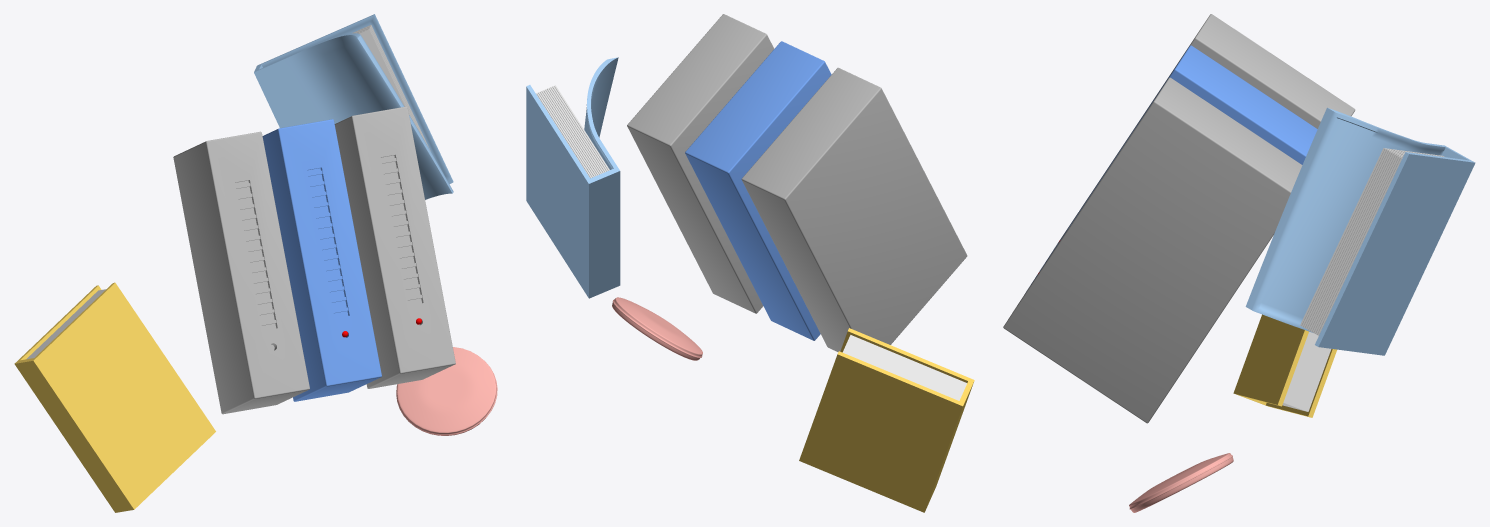
3 views of the same model, side by side, from view 1: azimuth 30°, elevation 25°; view 2: azimuth 150°, elevation 25°; view 3: azimuth 270°, elevation 25° (orthographic). The views are drawn at different scales.
Visible parts, largest first — view 1: 书_1, 布尔_1_2, 布尔_1, 布尔_1_3, 书_2, 印泥, 克隆, 克隆_3, 克隆_2, 克隆_1; view 2: 布尔_1_2, 书_1, 布尔_1, 布尔_1_3, 书_2, 克隆, 印泥; view 3: 布尔_1, 书_2, 书_1, 布尔_1_3, 布尔_1_2, 克隆, 印泥.
Part boxes in pixels (box(x1,y1,x2,y2)): 书_1: box(14, 282, 215, 512); 布尔_1_2: box(173, 131, 309, 414); 布尔_1: box(334, 106, 455, 388); 布尔_1_3: box(262, 119, 381, 401); 书_2: box(254, 14, 453, 199); 印泥: box(396, 347, 497, 435); 克隆: box(352, 25, 430, 150); 克隆_3: box(307, 170, 348, 313); 克隆_2: box(235, 183, 276, 325); 克隆_1: box(381, 158, 422, 300); 布尔_1_2: box(741, 67, 967, 351); 书_1: box(799, 328, 974, 512); 布尔_1: box(627, 14, 774, 313); 布尔_1_3: box(685, 41, 831, 340); 书_2: box(526, 57, 620, 298); 克隆: box(536, 85, 609, 178); 印泥: box(612, 297, 702, 360); 布尔_1: box(1003, 77, 1302, 423); 书_2: box(1245, 107, 1475, 355); 书_1: box(1233, 314, 1336, 417); 布尔_1_3: box(1026, 45, 1317, 291); 布尔_1_2: box(1049, 14, 1355, 256); 克隆: box(1300, 148, 1444, 335); 印泥: box(1129, 453, 1233, 512).
Size of the model in its own units: 3.76 by 3.27 by 3.12.
